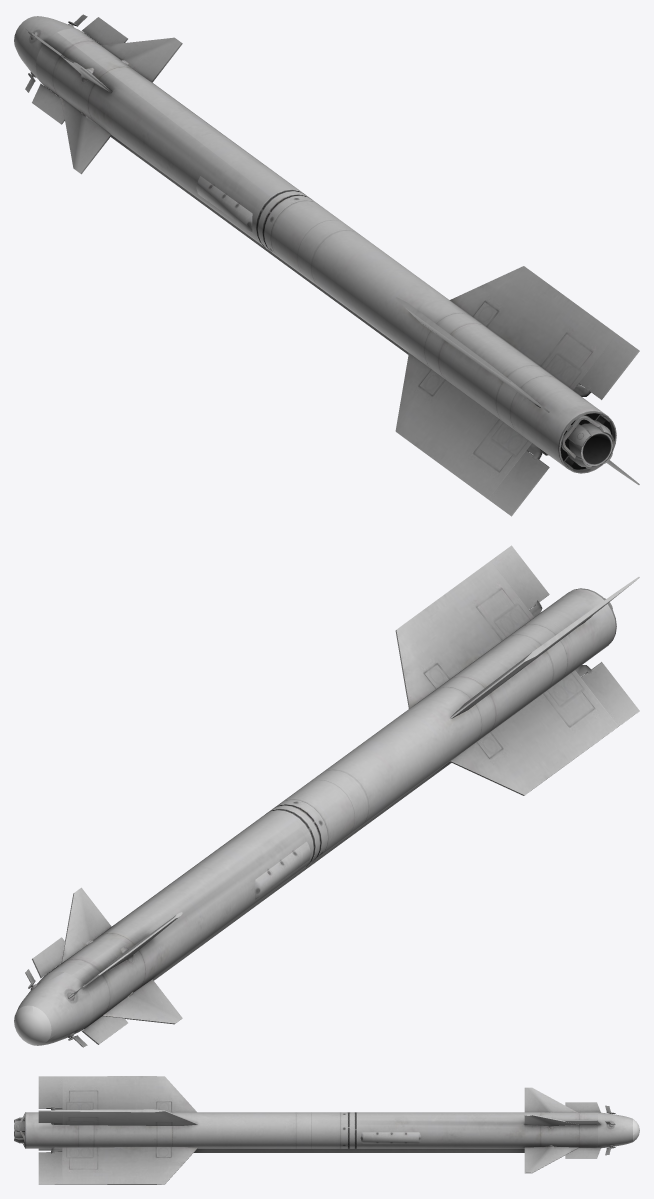
Rendered from aam_r73.glb.
The picture shows the model from 3 angles, top to bottom: view 1: azimuth 30°, elevation 25°; view 2: azimuth 150°, elevation 25°; view 3: azimuth 270°, elevation 25°; orthographic projection. The views are drawn at different scales.
Visible parts, largest first — view 1: body|w_qaam_r0-Mat; view 2: body|w_qaam_r0-Mat, body|w_qaam_r0-Glass; view 3: body|w_qaam_r0-Mat.
Boxes of the visible parts, box(x1,y1,x2,y2) form: body|w_qaam_r0-Mat: box(14, 14, 639, 516); body|w_qaam_r0-Mat: box(16, 545, 639, 1047); body|w_qaam_r0-Glass: box(14, 1005, 51, 1045); body|w_qaam_r0-Mat: box(14, 1076, 632, 1184).
Size of the model in its own units: 0.3883 by 0.3883 by 2.92.
Materials: 2 (1 with a texture image).
